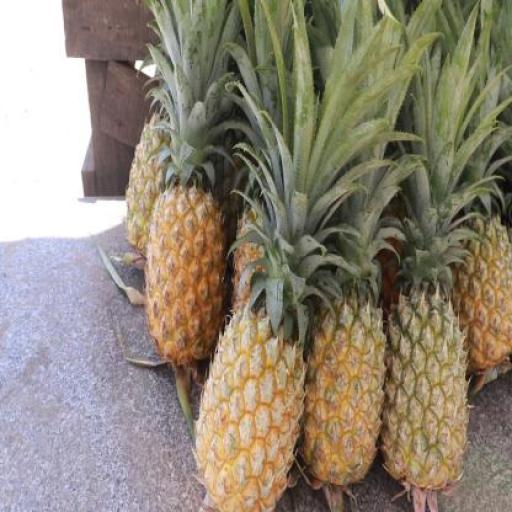------------------------------: (380, 289, 470, 495)
Pineapple - v8 v1: (198, 304, 304, 512), (302, 300, 382, 490), (145, 191, 222, 378), (453, 221, 512, 375)
